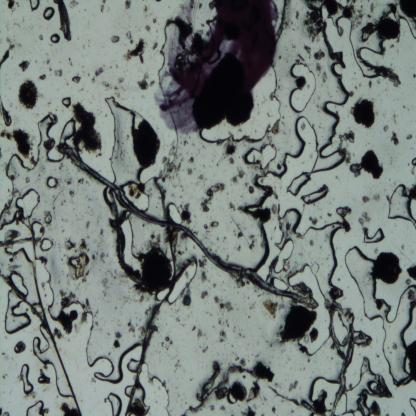Air bubble: (272, 0, 352, 176), (344, 246, 416, 384), (266, 204, 345, 305), (199, 65, 284, 144), (73, 302, 138, 388), (286, 263, 332, 356), (104, 96, 143, 185), (0, 147, 41, 231), (30, 324, 72, 398), (348, 19, 385, 79), (136, 361, 173, 416), (344, 356, 378, 413), (36, 111, 68, 166), (38, 255, 63, 321), (166, 257, 200, 305), (286, 60, 316, 112), (386, 184, 416, 228), (120, 218, 143, 272), (5, 288, 30, 336), (306, 374, 338, 408), (242, 142, 276, 170), (17, 79, 42, 111), (15, 190, 40, 218), (395, 10, 416, 40), (286, 172, 312, 196), (301, 184, 330, 204), (9, 269, 29, 294), (59, 119, 77, 145), (21, 362, 33, 396), (167, 201, 183, 225), (363, 227, 385, 244), (108, 391, 122, 416), (26, 399, 46, 416), (272, 276, 289, 292), (32, 220, 45, 240), (328, 11, 344, 26), (155, 286, 170, 302), (40, 235, 53, 252), (127, 360, 140, 373), (46, 176, 58, 189), (124, 384, 136, 397), (224, 392, 236, 404), (62, 96, 72, 109), (410, 397, 416, 416), (29, 0, 39, 11), (336, 206, 344, 219), (50, 34, 60, 44), (38, 376, 46, 384), (411, 157, 416, 166), (401, 411, 405, 416)
Background material: (135, 229, 172, 300), (330, 323, 355, 416), (72, 100, 104, 157), (277, 305, 317, 346), (358, 3, 400, 42), (129, 119, 162, 167), (268, 384, 314, 416), (371, 252, 405, 286), (66, 233, 90, 281), (350, 152, 384, 180), (350, 95, 376, 129), (304, 0, 326, 39), (200, 180, 226, 211), (121, 36, 146, 64), (12, 129, 35, 159), (58, 308, 79, 336), (218, 363, 255, 378), (338, 129, 354, 163), (322, 285, 341, 313), (373, 374, 394, 399), (252, 361, 276, 382), (406, 335, 416, 384), (312, 390, 330, 416), (349, 329, 373, 348), (214, 318, 230, 346), (252, 206, 272, 228), (164, 158, 182, 182), (0, 97, 14, 127), (0, 37, 14, 67), (230, 380, 248, 402), (320, 0, 339, 20), (182, 400, 204, 416), (340, 0, 356, 22), (262, 297, 279, 317), (52, 189, 63, 219), (58, 290, 76, 308), (59, 400, 79, 416), (129, 181, 145, 199), (136, 72, 152, 90), (247, 379, 259, 403), (230, 350, 248, 366), (178, 202, 191, 224), (351, 3, 362, 28), (221, 142, 236, 158), (12, 339, 27, 354), (369, 399, 382, 416), (112, 328, 122, 349), (92, 252, 109, 264), (126, 319, 137, 337), (42, 6, 56, 20), (358, 211, 372, 225), (241, 404, 257, 416), (242, 182, 256, 195), (232, 324, 245, 338), (406, 264, 416, 281), (19, 58, 31, 72), (232, 169, 243, 184), (168, 140, 178, 156), (0, 128, 12, 141), (220, 302, 234, 313), (295, 76, 306, 90), (173, 359, 183, 374), (310, 327, 319, 343), (248, 233, 257, 249), (271, 118, 280, 134), (390, 130, 398, 148), (126, 30, 135, 46), (100, 275, 110, 289), (284, 220, 292, 237), (343, 218, 352, 233), (101, 79, 112, 91), (123, 294, 134, 306), (43, 139, 55, 150), (236, 278, 246, 291), (201, 270, 210, 284), (113, 85, 122, 99), (409, 183, 416, 201), (79, 310, 88, 324), (303, 41, 312, 55), (44, 210, 52, 225), (320, 72, 330, 84), (314, 49, 324, 61), (308, 215, 318, 227), (294, 52, 306, 62), (143, 304, 153, 316), (0, 404, 10, 416), (288, 381, 298, 392), (198, 257, 207, 269), (407, 288, 416, 300), (81, 298, 90, 310), (142, 5, 149, 20), (54, 326, 62, 339), (94, 66, 104, 76), (71, 75, 81, 85), (210, 219, 220, 229), (374, 299, 383, 310), (6, 0, 15, 11), (54, 67, 63, 78), (181, 286, 190, 297), (344, 205, 352, 217), (138, 294, 150, 302), (269, 204, 278, 214), (64, 176, 73, 186), (124, 0, 133, 10), (200, 289, 209, 299), (314, 62, 322, 73), (213, 294, 220, 306), (100, 0, 106, 14), (176, 248, 186, 256), (69, 0, 79, 8), (42, 406, 50, 416), (160, 378, 168, 388), (234, 244, 243, 252), (236, 230, 244, 239), (68, 56, 74, 68), (270, 405, 278, 414), (228, 202, 236, 211), (392, 112, 398, 124), (8, 174, 17, 182), (152, 41, 160, 50), (197, 328, 203, 340), (249, 301, 257, 310), (186, 167, 194, 176), (300, 121, 307, 131), (160, 154, 167, 164), (391, 341, 398, 351), (110, 36, 120, 43), (30, 156, 37, 166), (295, 9, 301, 20), (14, 22, 22, 30), (362, 195, 370, 203), (372, 192, 380, 200), (382, 124, 390, 132), (116, 76, 124, 84), (109, 269, 116, 278), (100, 288, 106, 298), (202, 345, 209, 353), (373, 246, 380, 254), (199, 173, 207, 180), (16, 41, 22, 50), (205, 310, 214, 316), (276, 162, 282, 171), (228, 156, 234, 165), (40, 281, 46, 290), (273, 191, 279, 200), (190, 155, 196, 164), (203, 223, 209, 232), (145, 24, 151, 33), (270, 91, 275, 101), (411, 166, 416, 176), (406, 134, 413, 141), (405, 280, 413, 286), (370, 4, 376, 12), (218, 405, 226, 411), (258, 292, 266, 298), (298, 347, 306, 353), (368, 80, 374, 88), (58, 163, 64, 171), (36, 172, 42, 180), (69, 189, 74, 198), (46, 375, 51, 384), (184, 271, 189, 280), (78, 178, 84, 185), (39, 369, 45, 376), (89, 377, 96, 383), (38, 74, 46, 79), (388, 43, 396, 48), (91, 76, 96, 84), (184, 138, 189, 146), (85, 220, 90, 228), (175, 317, 181, 323), (0, 147, 3, 159), (327, 211, 333, 217), (241, 373, 247, 379), (308, 153, 314, 159), (348, 384, 354, 390), (164, 336, 170, 342), (39, 33, 44, 40), (198, 2, 203, 9), (289, 408, 294, 414), (61, 199, 66, 205), (348, 91, 354, 96), (254, 353, 260, 358), (150, 80, 155, 86), (367, 12, 371, 19), (192, 325, 196, 332), (212, 282, 216, 289), (226, 254, 230, 261), (310, 239, 314, 246), (394, 82, 399, 87), (210, 405, 215, 410), (215, 236, 220, 241), (1, 350, 6, 355), (3, 373, 8, 378), (43, 365, 48, 370), (224, 236, 228, 242), (246, 281, 252, 285), (153, 18, 157, 24), (42, 166, 46, 172), (80, 86, 84, 92), (180, 323, 186, 327), (161, 342, 165, 348), (26, 177, 30, 183), (95, 308, 98, 316), (155, 0, 163, 3), (16, 1, 19, 8), (100, 228, 103, 235), (265, 339, 269, 344), (46, 59, 50, 64), (278, 85, 282, 90), (402, 104, 406, 109), (107, 351, 111, 356), (376, 80, 382, 83), (413, 73, 416, 79), (190, 377, 194, 381), (49, 67, 53, 71), (53, 0, 57, 4), (402, 245, 406, 249), (177, 305, 179, 313), (165, 346, 169, 350), (64, 218, 68, 222), (22, 14, 24, 22), (95, 322, 99, 326), (335, 176, 339, 180), (186, 313, 190, 317), (307, 84, 310, 89), (170, 341, 173, 346), (115, 305, 118, 310), (105, 113, 108, 118), (83, 43, 85, 50), (89, 197, 92, 201), (270, 343, 273, 347), (87, 73, 90, 77), (308, 360, 311, 364), (116, 64, 118, 70), (355, 86, 358, 90), (58, 279, 60, 284), (62, 228, 64, 233), (231, 344, 234, 347), (312, 124, 315, 127), (367, 0, 370, 3), (247, 296, 250, 299), (35, 60, 37, 64), (108, 332, 110, 336), (248, 316, 251, 318), (224, 289, 226, 292), (50, 44, 52, 47), (159, 351, 161, 354), (259, 327, 261, 330), (212, 326, 215, 328), (61, 218, 63, 221), (88, 206, 90, 209), (110, 65, 112, 68), (44, 294, 46, 297), (61, 258, 63, 260), (272, 356, 274, 358), (106, 400, 107, 403), (82, 66, 84, 67)
Cellulose filter fibre: (125, 301, 162, 416), (103, 188, 137, 282), (327, 305, 348, 358), (197, 359, 221, 401), (368, 63, 400, 83), (58, 0, 71, 42)
Diatom: (184, 295, 192, 306)
Microfibre: (58, 142, 312, 309)
Pen: (154, 0, 282, 132)
